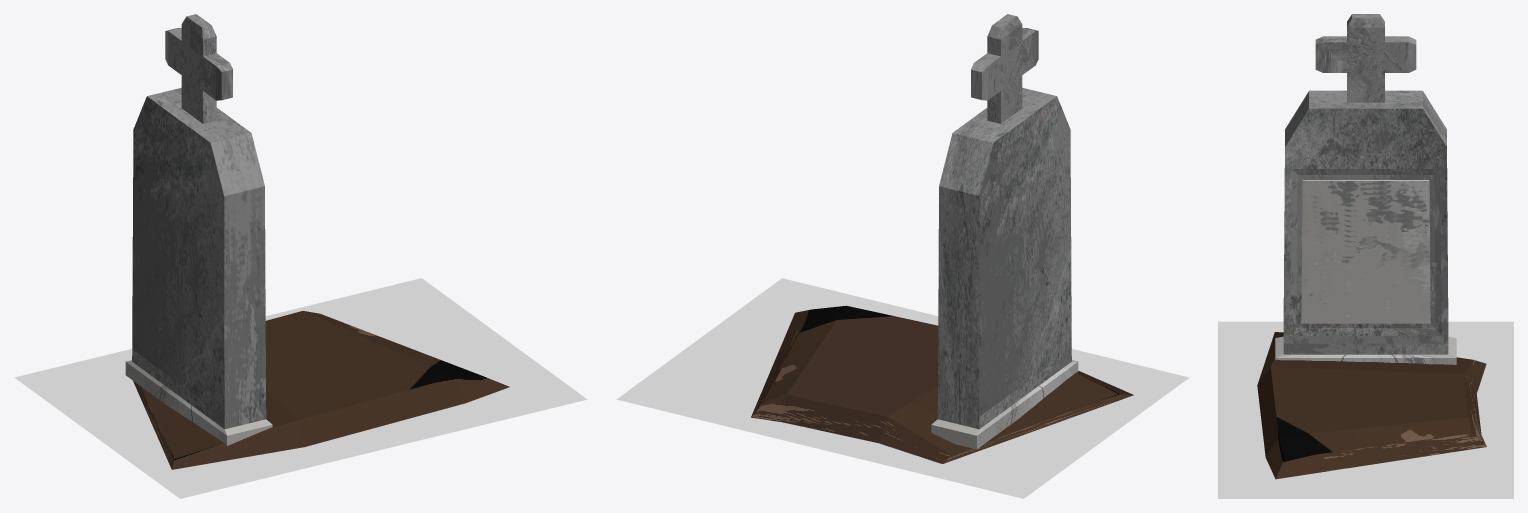
The model's file is grave_with_cross 1.fbx.
3 renders of one model, left to right at view 1: azimuth 30°, elevation 25°; view 2: azimuth 150°, elevation 25°; view 3: azimuth 270°, elevation 25°, orthographic. The views are drawn at different scales.
Parts seen in each view (by area): view 1: Grave, Plane.002, Dirt, Grave.001; view 2: Grave, Plane.002, Dirt, Grave.001; view 3: Grave, Plane.002, Dirt, Grave.001.
Part boxes in pixels (bbox=[...]): Grave: bbox=[125, 87, 272, 445]; Plane.002: bbox=[14, 278, 587, 498]; Dirt: bbox=[133, 311, 509, 469]; Grave.001: bbox=[165, 14, 232, 123]; Grave: bbox=[931, 87, 1078, 449]; Plane.002: bbox=[616, 278, 1189, 498]; Dirt: bbox=[751, 305, 1133, 463]; Grave.001: bbox=[971, 14, 1038, 123]; Grave: bbox=[1275, 90, 1456, 364]; Plane.002: bbox=[1218, 321, 1513, 498]; Dirt: bbox=[1257, 332, 1486, 479]; Grave.001: bbox=[1315, 14, 1416, 102].
Size of the model in its own units: 3.44 by 2.43 by 3.17.
